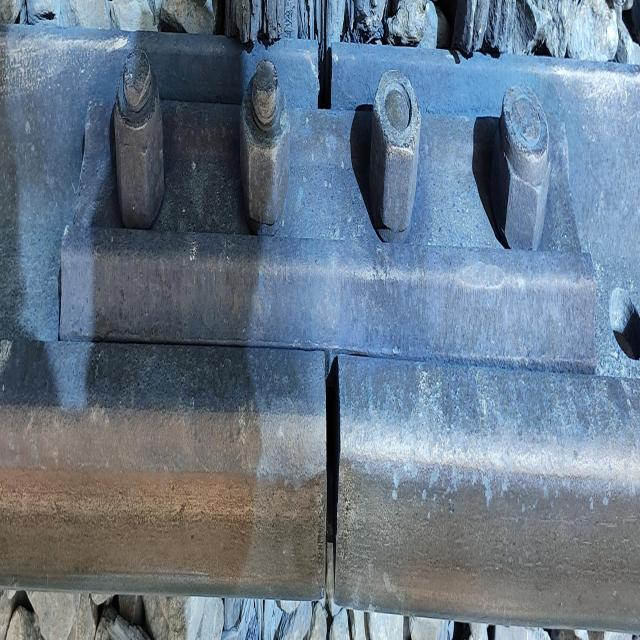Good Joint: (68, 63, 614, 375)
